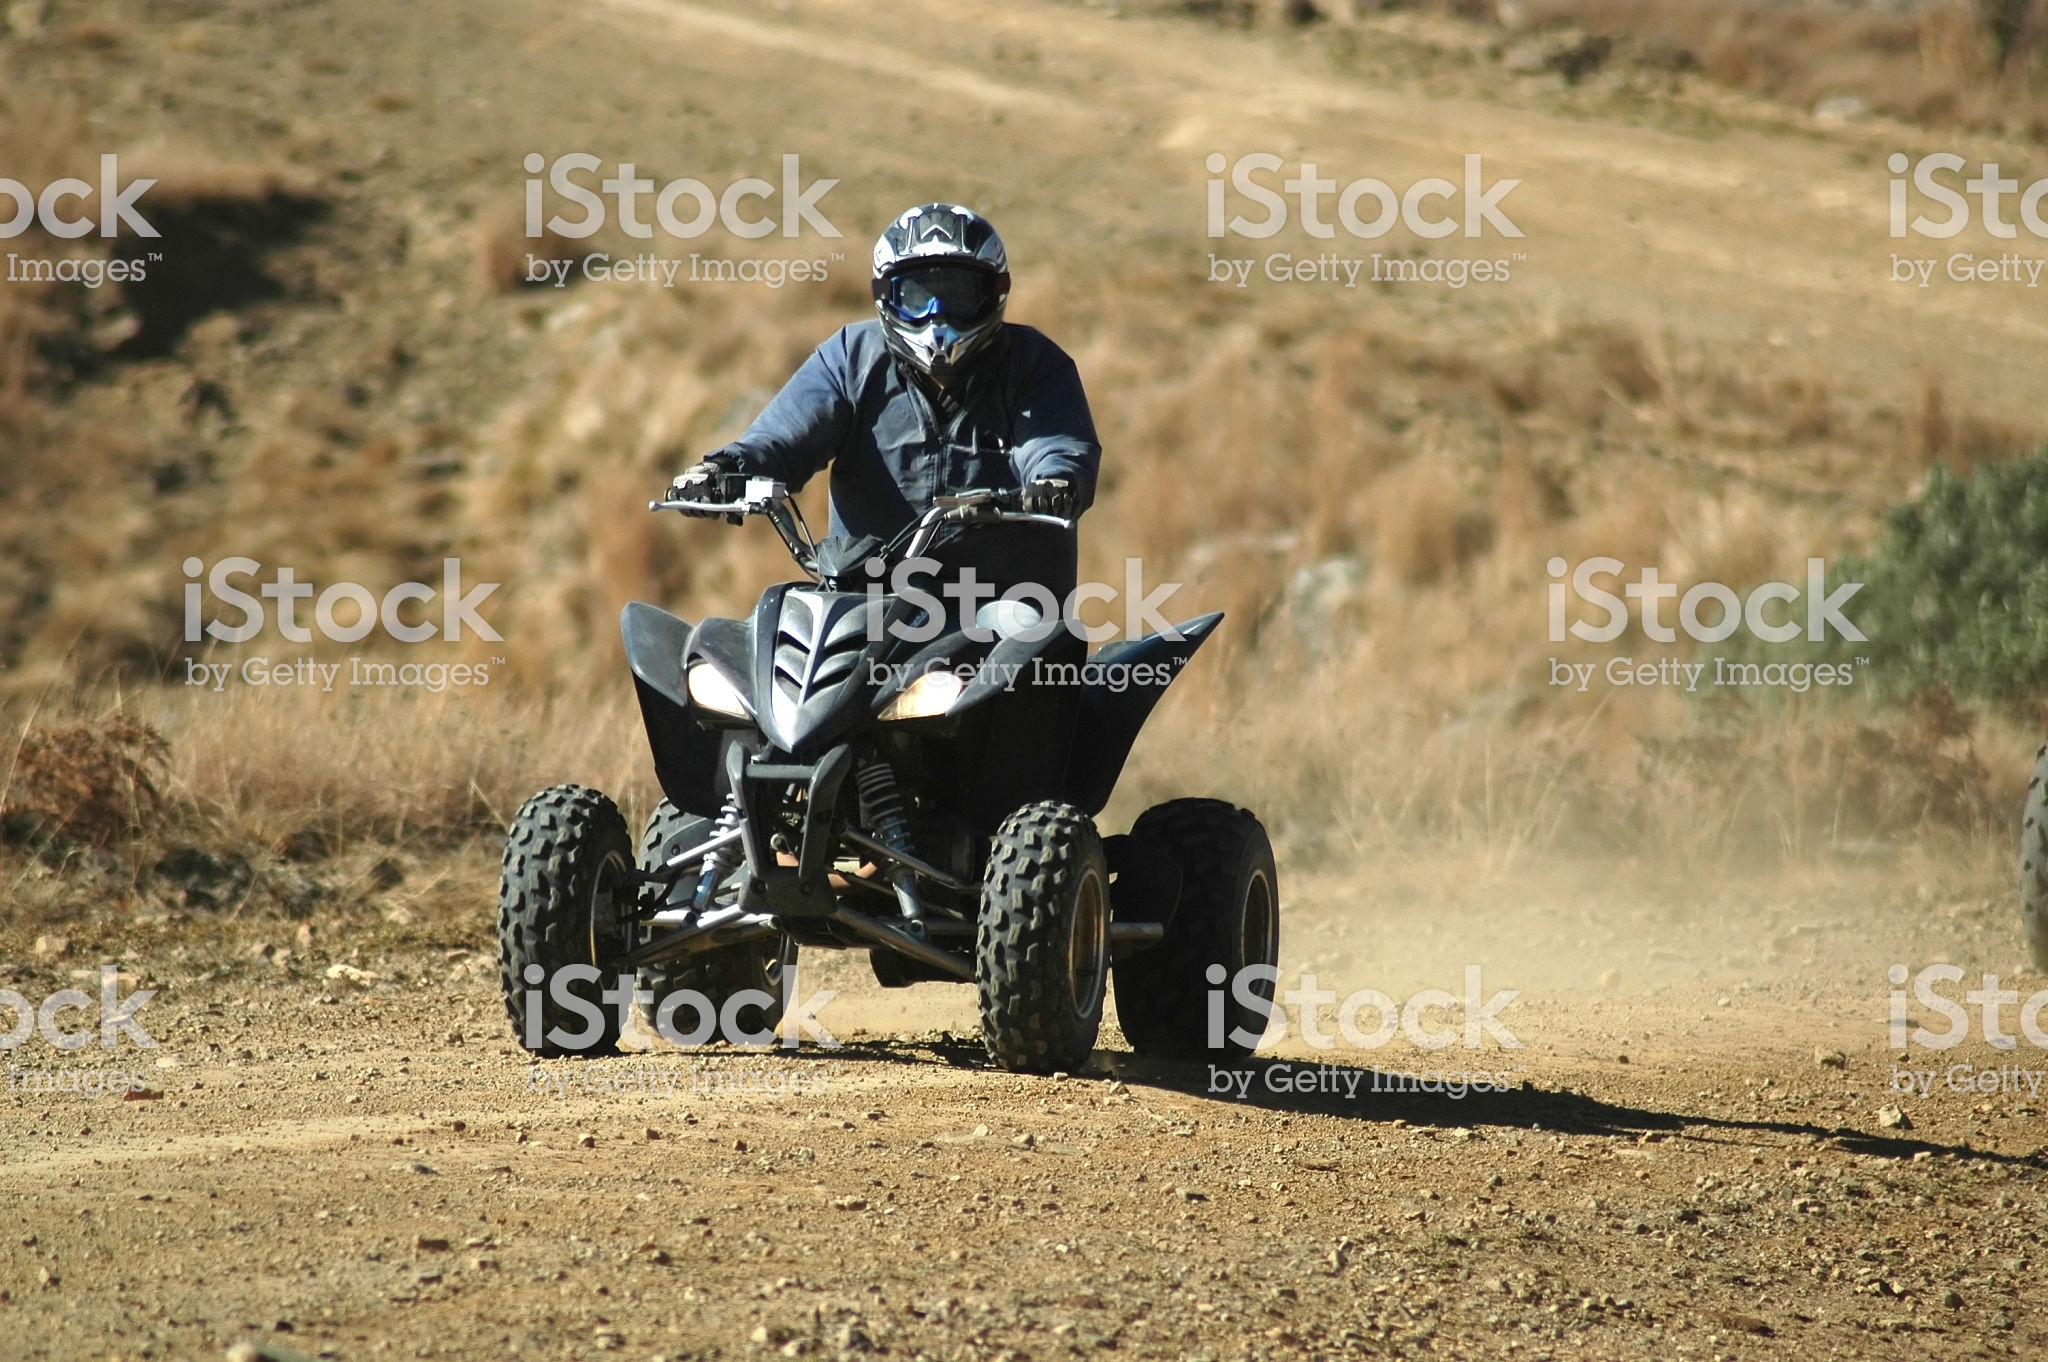helmet: (868, 207, 1019, 377)
